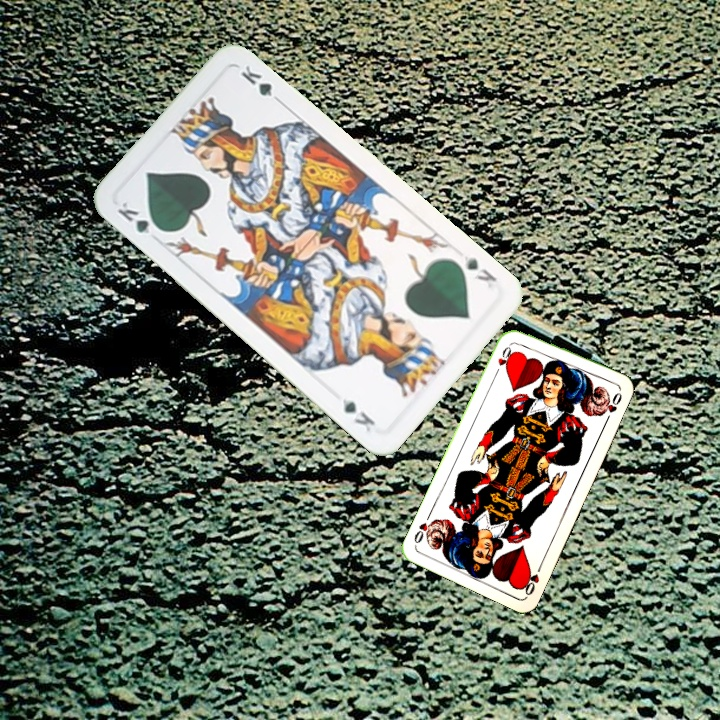GK: (113, 197, 166, 244), (459, 251, 501, 294)
HO: (518, 560, 545, 598), (491, 338, 517, 376)
